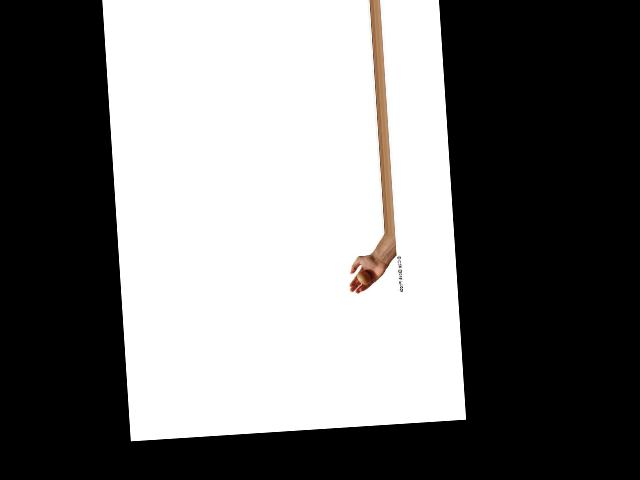egg: (357, 271, 371, 285)
